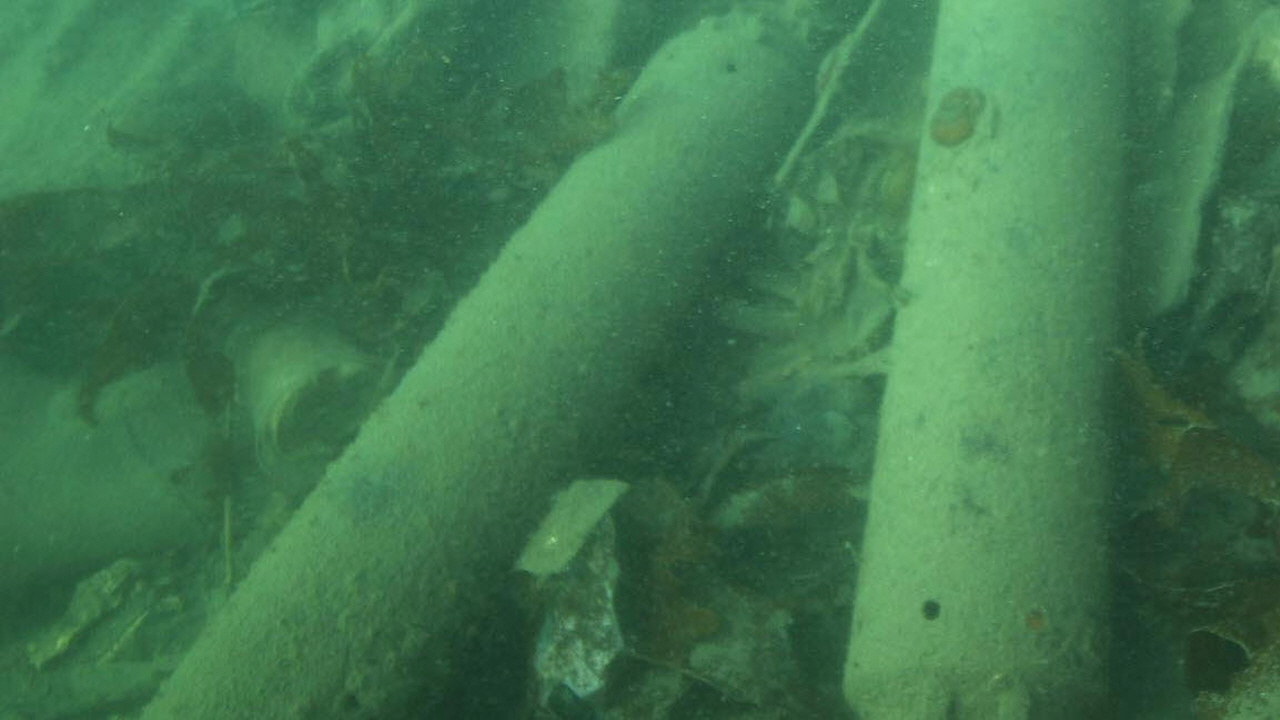eel fish trap: (139, 9, 802, 720), (839, 0, 1134, 719)
